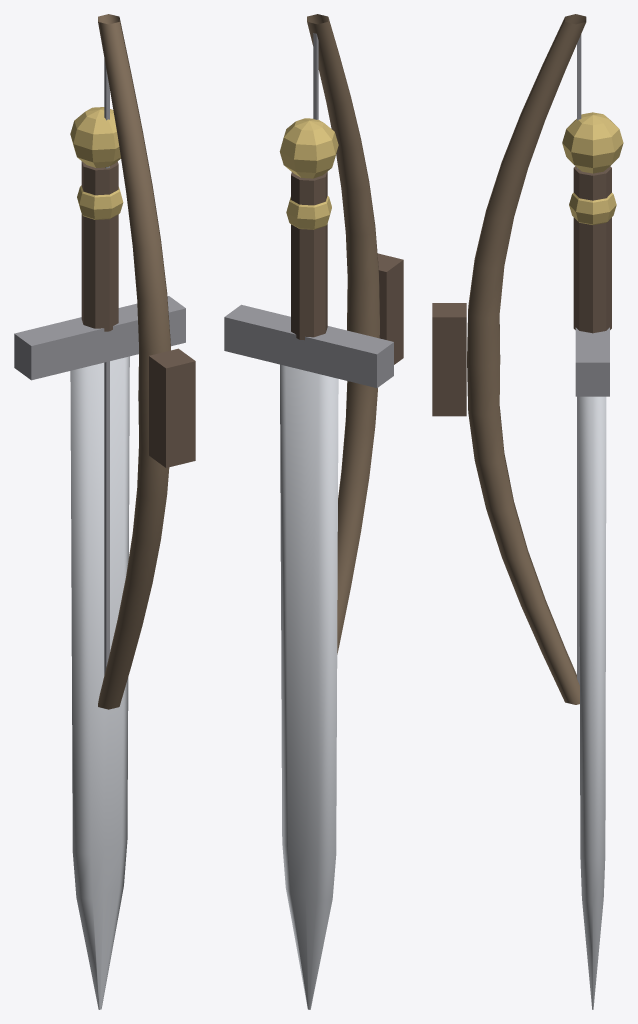
Rendered from weapons.glb.
3 views of the same model, side by side, from view 1: azimuth 30°, elevation 25°; view 2: azimuth 150°, elevation 25°; view 3: azimuth 270°, elevation 25° (orthographic).
Visible parts, largest first — view 1: Greatsword, Bow, Sword, Dagger; view 2: Greatsword, Bow, Sword, Dagger; view 3: Bow, Greatsword, Sword, Dagger.
Boxes of the visible parts, x1,y1,x2,y2 form: Greatsword: [14, 107, 185, 1009]; Bow: [98, 14, 195, 709]; Sword: [32, 185, 136, 375]; Dagger: [56, 266, 137, 351]; Greatsword: [224, 118, 393, 1009]; Bow: [307, 14, 403, 654]; Sword: [242, 196, 359, 383]; Dagger: [265, 270, 335, 377]; Bow: [432, 14, 586, 704]; Greatsword: [562, 112, 623, 1009]; Sword: [569, 192, 616, 353]; Dagger: [573, 267, 611, 333].
Bounding box in the file's own units: 0.26 × 1.6 × 0.28.
